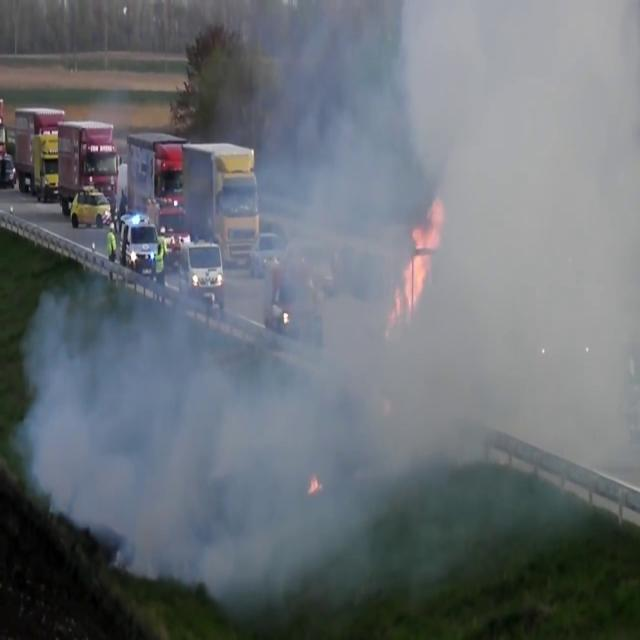Fire: (398, 186, 446, 320)
Smoke: (8, 4, 640, 598)
